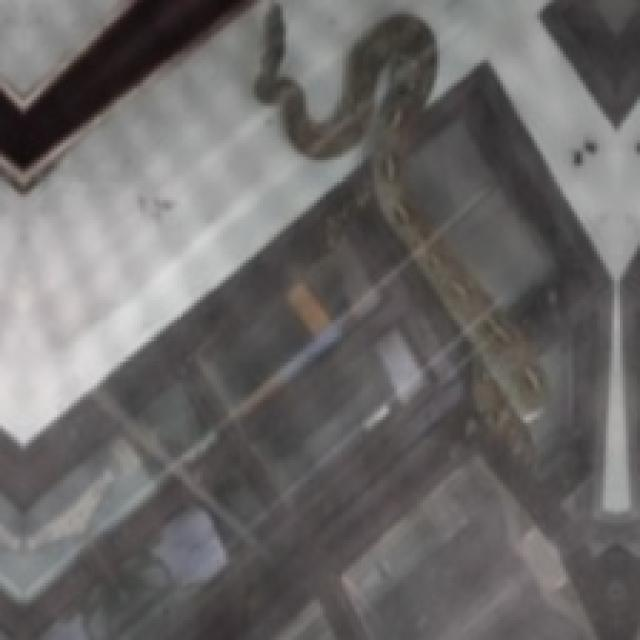reticulated python: (254, 3, 543, 423)
